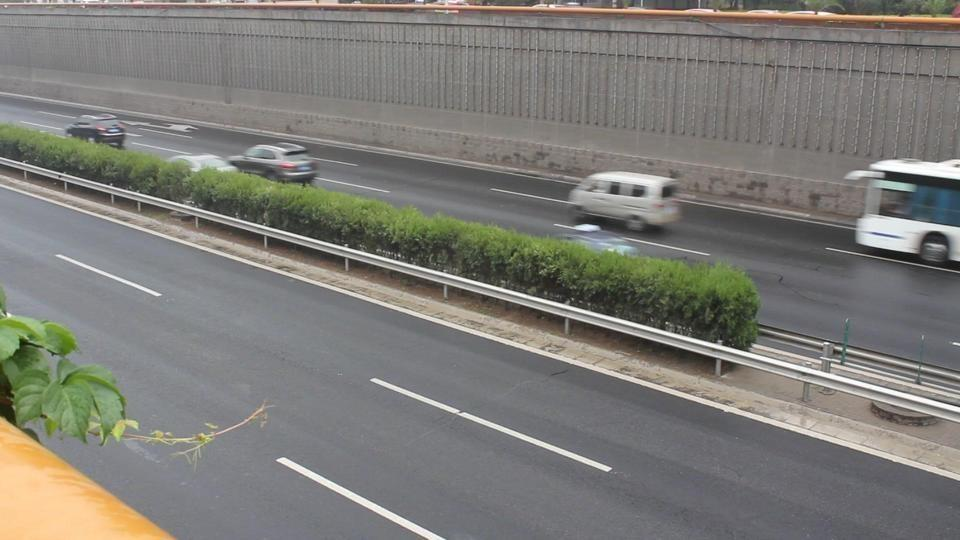car: (567, 170, 685, 233), (226, 143, 320, 185), (63, 113, 127, 149)
